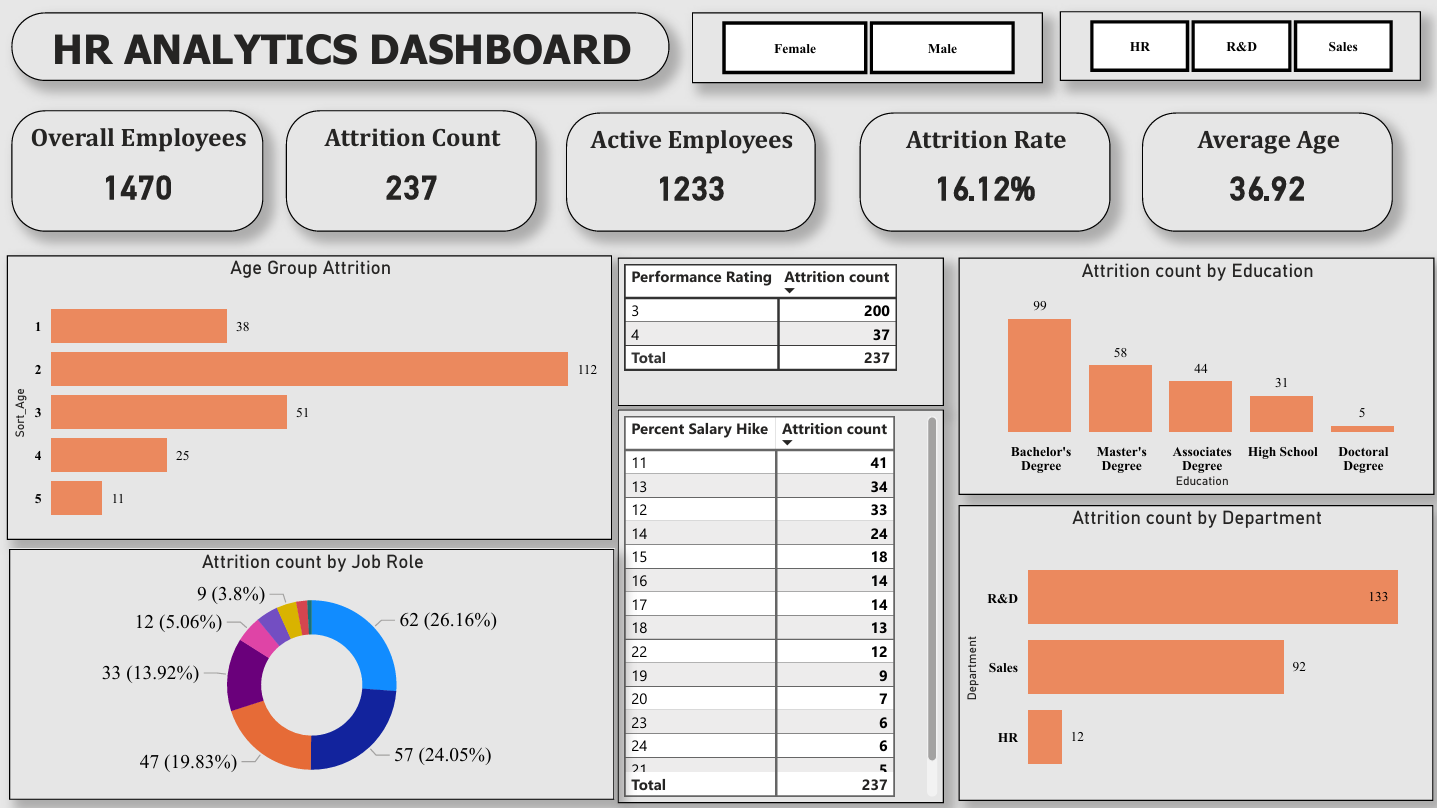

Layout of this report page (visuals, bound fields, positions):
{"tool":"powerbi","page":{"name":"Page 1","canvas":[1280,720],"ordinal":0},"visuals":[{"type":"textbox","title":"HR ANALYTICS DASHBOARD","box":[10.9,10.9,585.1,61.5],"z":0},{"type":"card","title":"Overall Employees","fields":{"Values":["Sum(HR data.Employee Count)"]},"box":[10.7,97.9,224.3,108.6],"z":1000},{"type":"card","title":"Attrition Count ","fields":{"Values":["Sum(HR data.attrition count)"]},"box":[254.6,97.7,223.2,108.6],"z":2000},{"type":"card","title":"Active Employees","fields":{"Values":["Sum(HR data.CF_current Employee)"]},"box":[503.7,99.7,222.5,106.8],"z":3000},{"type":"card","title":"Average Age","fields":{"Values":["Avg(HR data.Age)"]},"box":[1016.3,99.7,222.5,106.8],"z":4000},{"type":"card","title":"Attrition Rate","fields":{"Values":["HR data.Attrition Rate"]},"box":[765.3,99.7,222.5,106.8],"z":5000},{"type":"slicer","fields":{"Values":["HR data.Gender"]},"box":[616.5,10.9,311.3,62.7],"z":6000},{"type":"slicer","fields":{"Values":["HR data.Department"]},"box":[943.4,9.7,320.9,62.7],"z":7000},{"type":"barChart","title":"Age Group Attrition","fields":{"Category":["HR data.Sort_Age"],"Y":["Sum(HR data.attrition count)"]},"box":[7.2,226.5,538.2,253.9],"z":8000},{"type":"pivotTable","fields":{"Rows":["HR data.Performance Rating"],"Values":["Sum(HR data.attrition count)"]},"box":[549.7,229.4,290,131.3],"z":9000},{"type":"pivotTable","fields":{"Rows":["HR data.Percent Salary Hike"],"Values":["Sum(HR data.attrition count)"]},"box":[549.7,363.6,290,350.6],"z":10000},{"type":"columnChart","title":"Attrition count by Education","fields":{"Category":["HR data.Education"],"Y":["Sum(HR data.attrition count)"]},"box":[853,229.2,423.5,211.1],"z":11000},{"type":"barChart","title":"Attrition count by Department","fields":{"Category":["HR data.Department"],"Y":["Sum(HR data.attrition count)"]},"box":[853,448.8,422.3,263],"z":12000},{"type":"donutChart","title":"Attrition count by Job Role","fields":{"Category":["HR data.Job Role"],"Y":["Sum(HR data.attrition count)"]},"box":[8.7,487.7,538.2,223.6],"z":13000}]}

Visuals, with their boxes in screenshot pixels (x1, y1, x2, y2), scaled from the page's 1280x720 canvas onto the 1437x808 screenshot:
"HR ANALYTICS DASHBOARD" textbox: BBox(12, 12, 669, 81)
"Overall Employees" card: BBox(12, 110, 264, 232)
"Attrition Count " card: BBox(286, 110, 536, 232)
"Active Employees" card: BBox(565, 112, 815, 232)
"Average Age" card: BBox(1141, 112, 1391, 232)
"Attrition Rate" card: BBox(859, 112, 1109, 232)
slicer - HR data.Gender: BBox(692, 12, 1042, 83)
slicer - HR data.Department: BBox(1059, 11, 1419, 81)
"Age Group Attrition" barChart: BBox(8, 254, 612, 539)
pivotTable - HR data.Performance Rating x Sum(HR data.attrition count): BBox(617, 257, 943, 405)
pivotTable - HR data.Percent Salary Hike x Sum(HR data.attrition count): BBox(617, 408, 943, 801)
"Attrition count by Education" columnChart: BBox(958, 257, 1433, 494)
"Attrition count by Department" barChart: BBox(958, 504, 1432, 799)
"Attrition count by Job Role" donutChart: BBox(10, 547, 614, 798)
